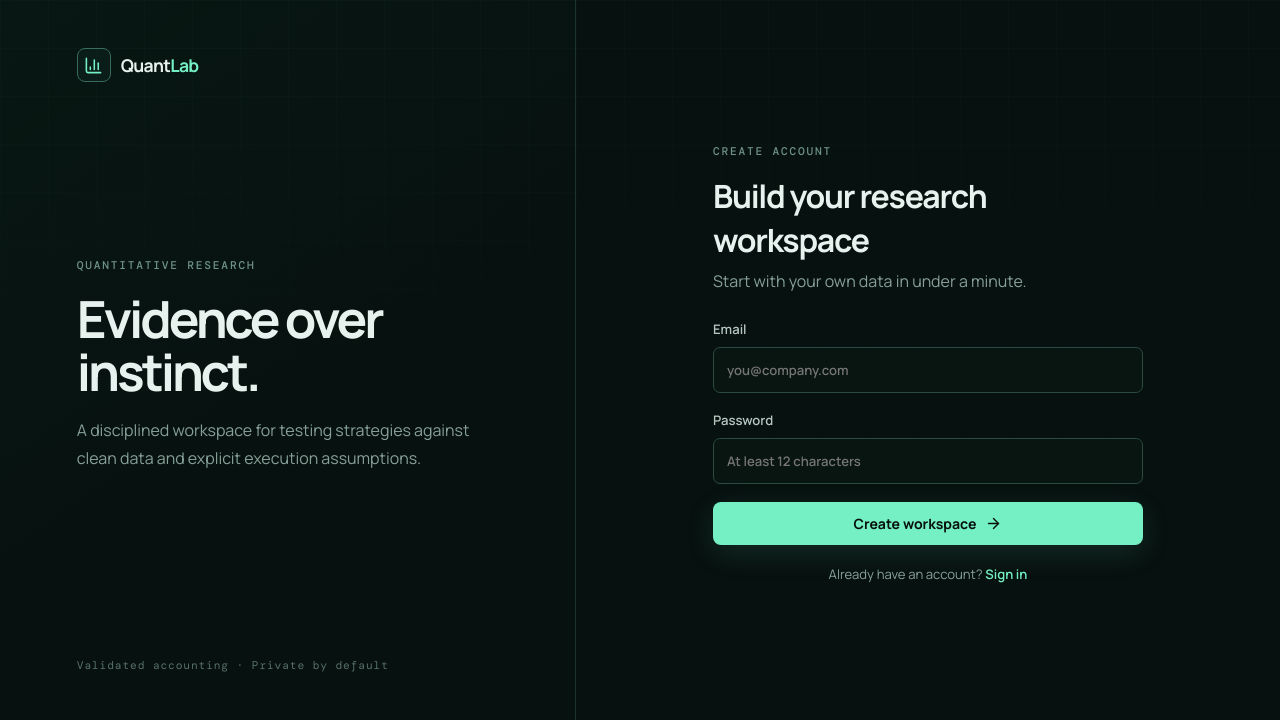
Test: critical user flow › registers, logs in, and opens the workspace
Type "analyst@example.com" into the field labelled "Email" at (928, 370), box 713,346 -> 1143,392
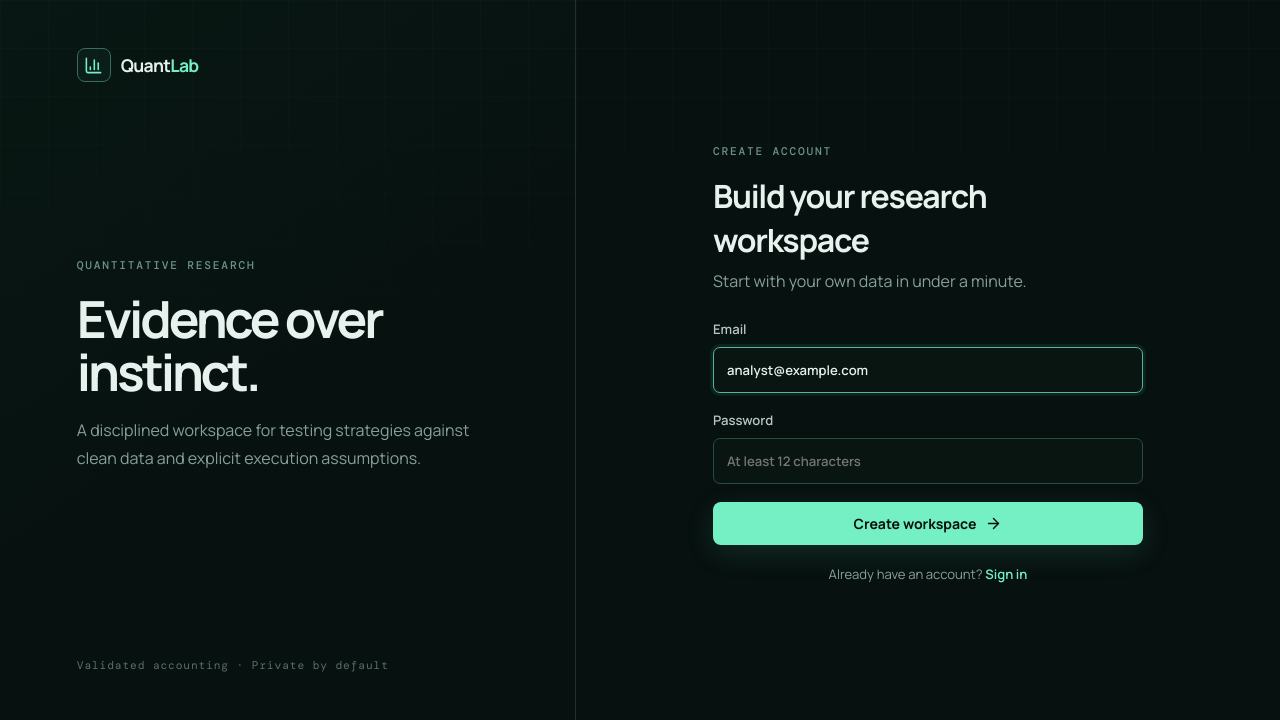
Type "correct-horse-123" into the password field labelled "Password" at (928, 460), box 713,438 -> 1143,484
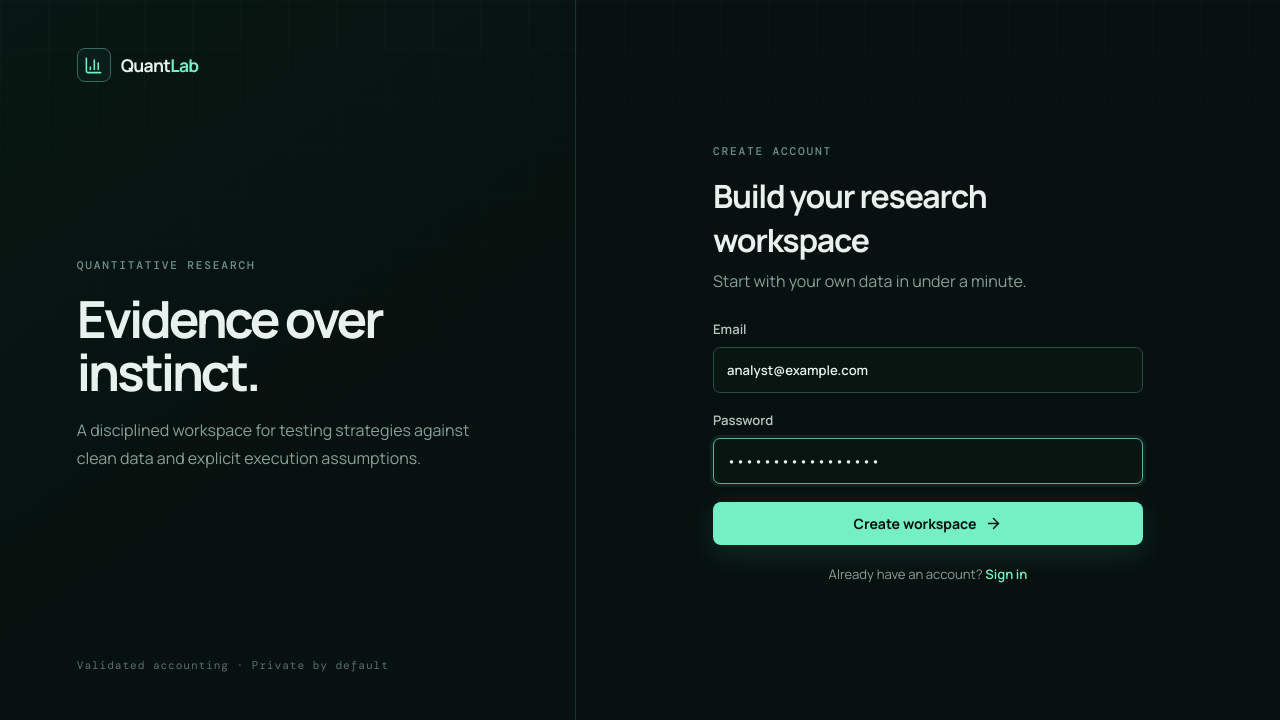
Click the button "Create workspace" at (928, 523), box 713,502 -> 1143,544
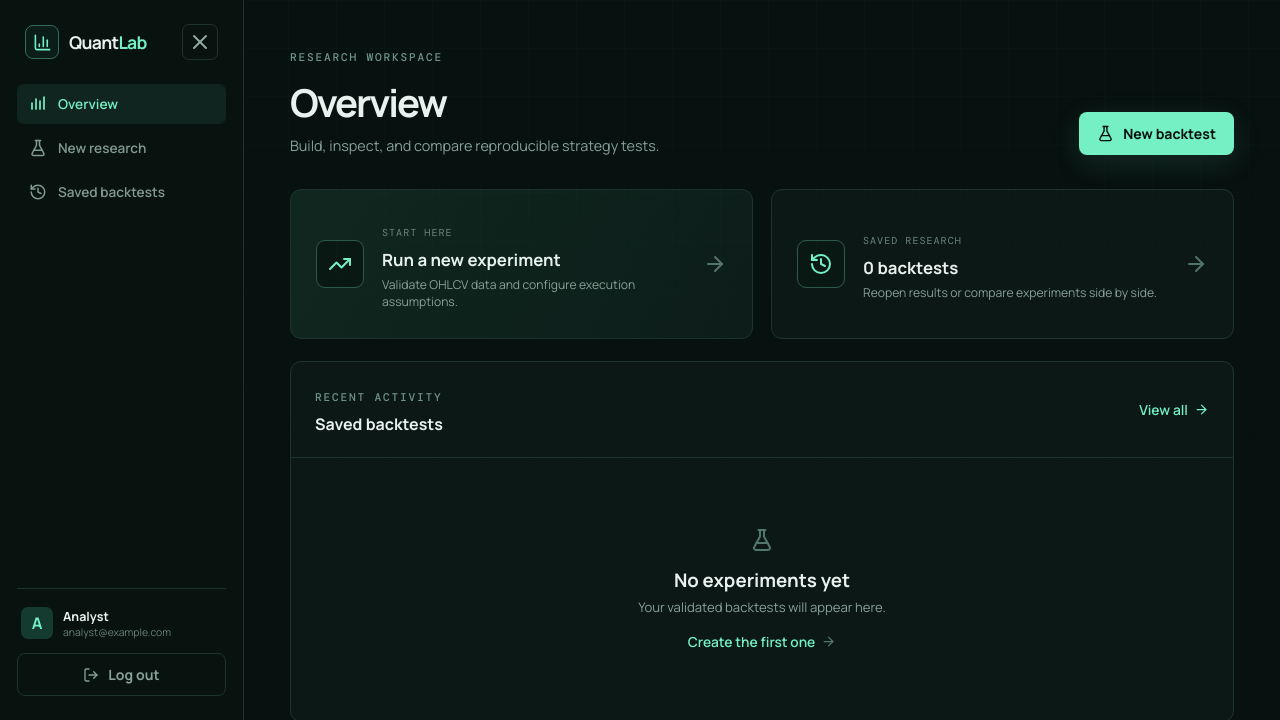
Now the heading "Overview" is shown, box 290,76 -> 446,129
